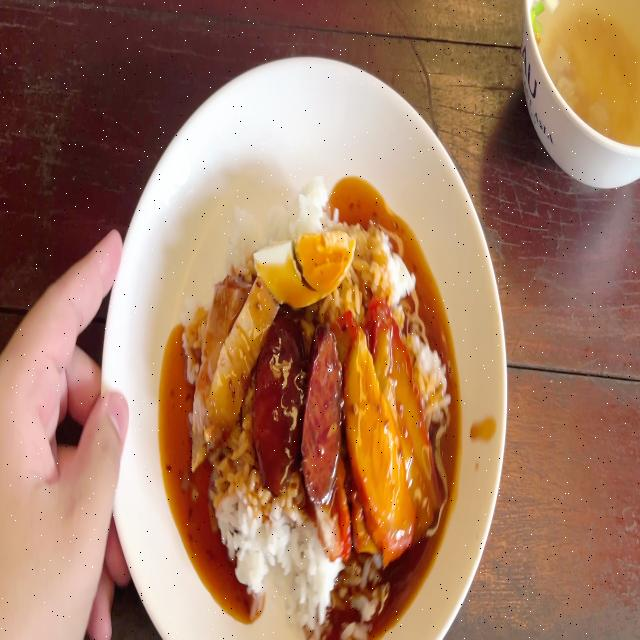boiled_egg: (256, 233, 351, 303)
chainese_sausage: (256, 325, 344, 495)
crispy_pork: (190, 281, 273, 448)
noodle: (357, 301, 427, 538)
red_pork_and_crispy_pork: (190, 179, 443, 640)
rice: (219, 439, 276, 588), (272, 514, 326, 620)
